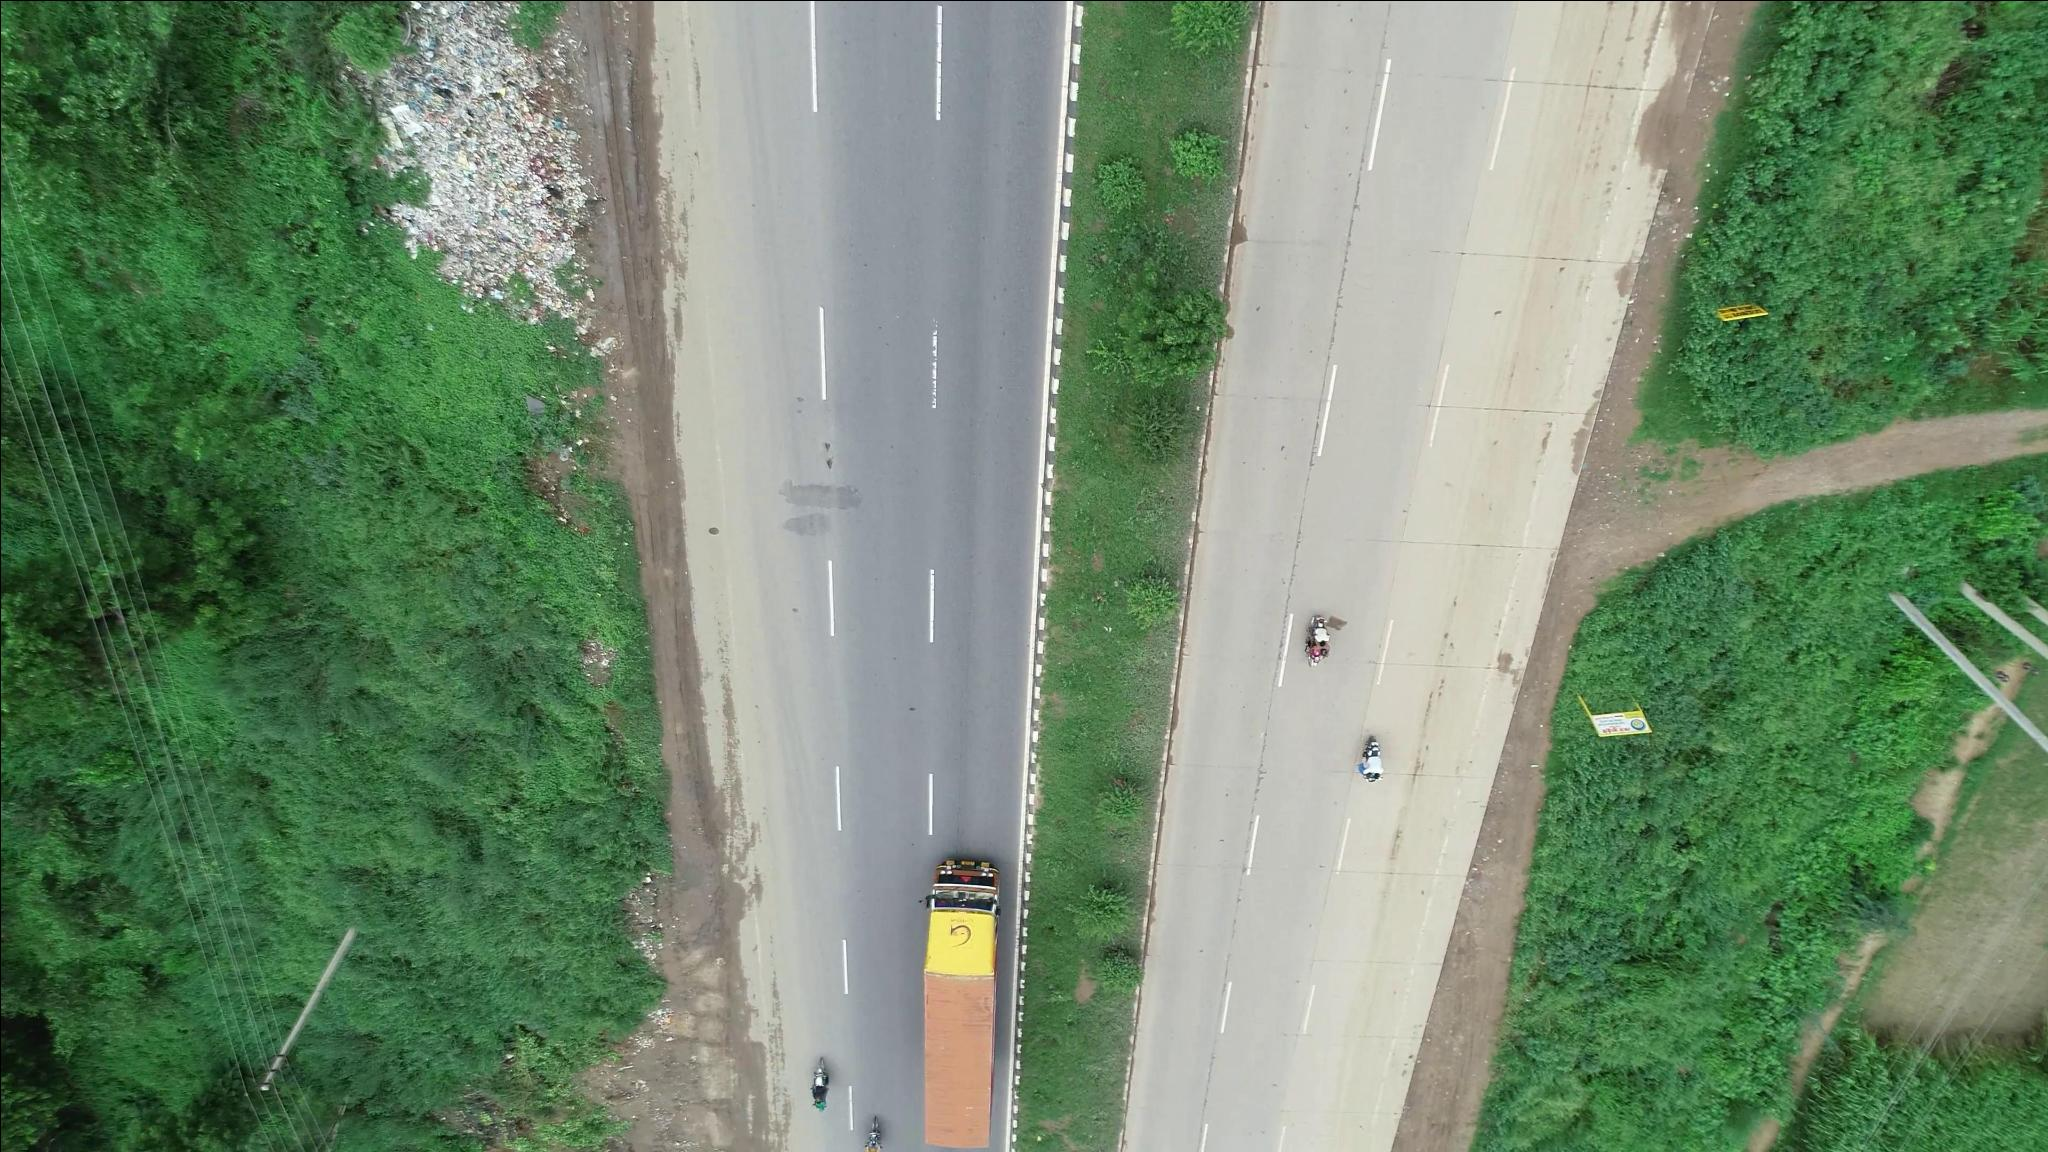Road_side_garbage: (383, 20, 627, 366)
